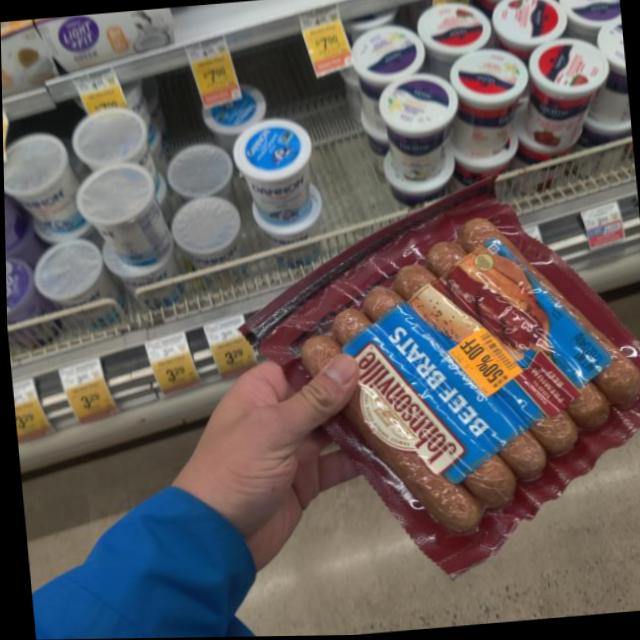Meat: (253, 177, 640, 569)
Yogurt: (74, 160, 176, 273), (520, 37, 615, 151), (446, 47, 535, 161), (376, 72, 465, 186), (231, 118, 315, 224), (2, 130, 85, 236), (31, 237, 126, 329), (351, 25, 429, 132), (170, 193, 246, 288), (418, 0, 493, 59), (492, 0, 569, 51), (199, 81, 268, 134), (165, 144, 232, 198), (558, 0, 622, 36)
